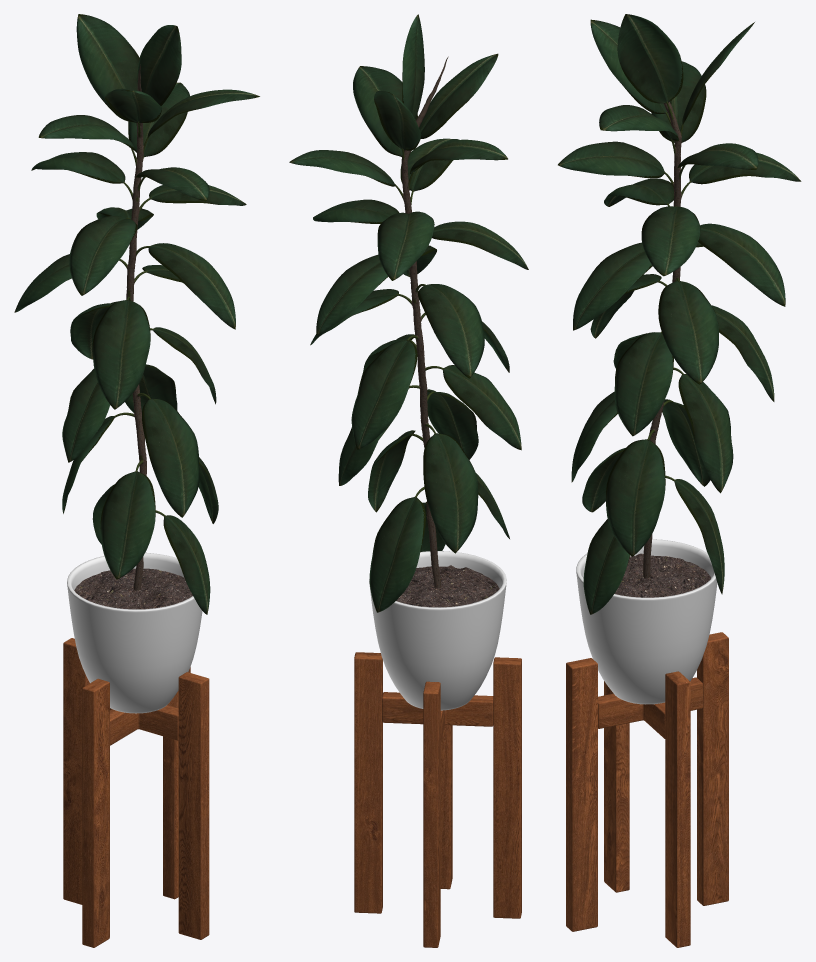
Rendered from Plant2.fbx.
3 views of the same model, side by side, from view 1: azimuth 30°, elevation 25°; view 2: azimuth 150°, elevation 25°; view 3: azimuth 270°, elevation 25° (orthographic). The views are drawn at different scales.
Parts seen in each view (by area): view 1: Plant2; view 2: Plant2; view 3: Plant2.
Part boxes in pixels (<box>): Plant2: <box>14,14,259,947</box>; Plant2: <box>289,14,528,947</box>; Plant2: <box>558,14,801,947</box>.
Bounding box in the file's own units: 38.09 × 160 × 38.7.
